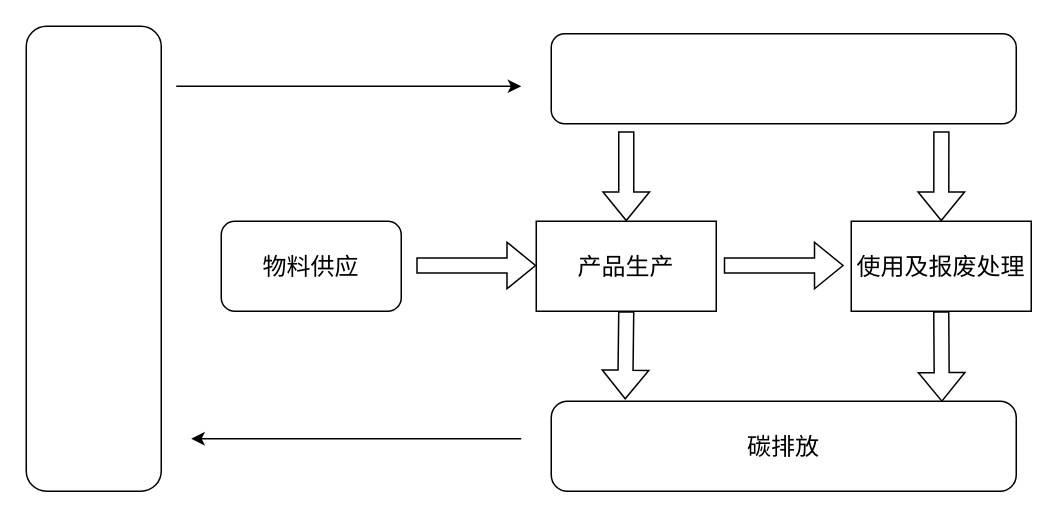
The diagram is 1058 pixels wide and 518 high, and some of its shapes have lost their labels. Each missing label, with the centre of its shape:
能源供应: (783,78)
自然资源: (93,258)
